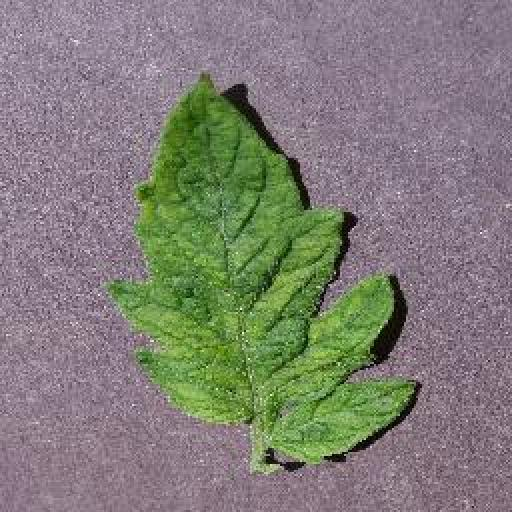Mosaic Virus: (107, 73, 420, 460)
